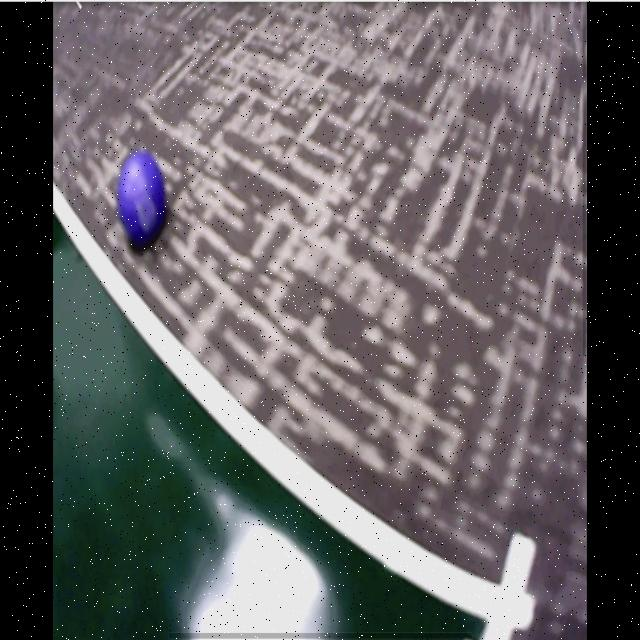ball: (116, 151, 168, 243)
